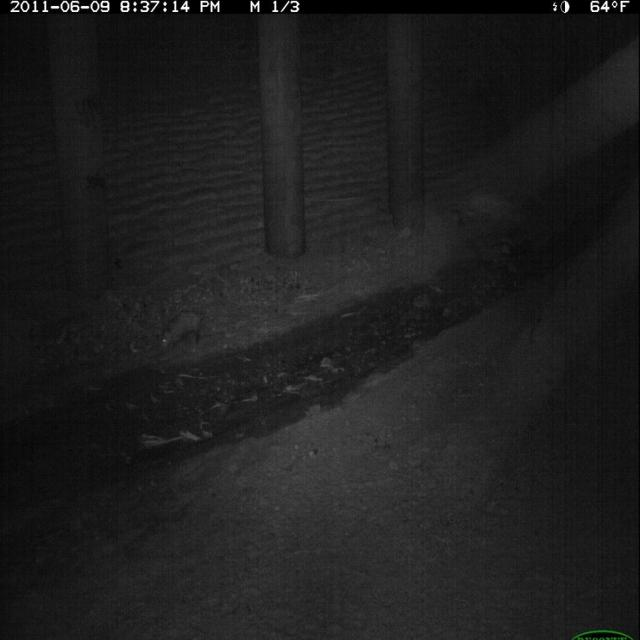opossum: (158, 306, 223, 360)
